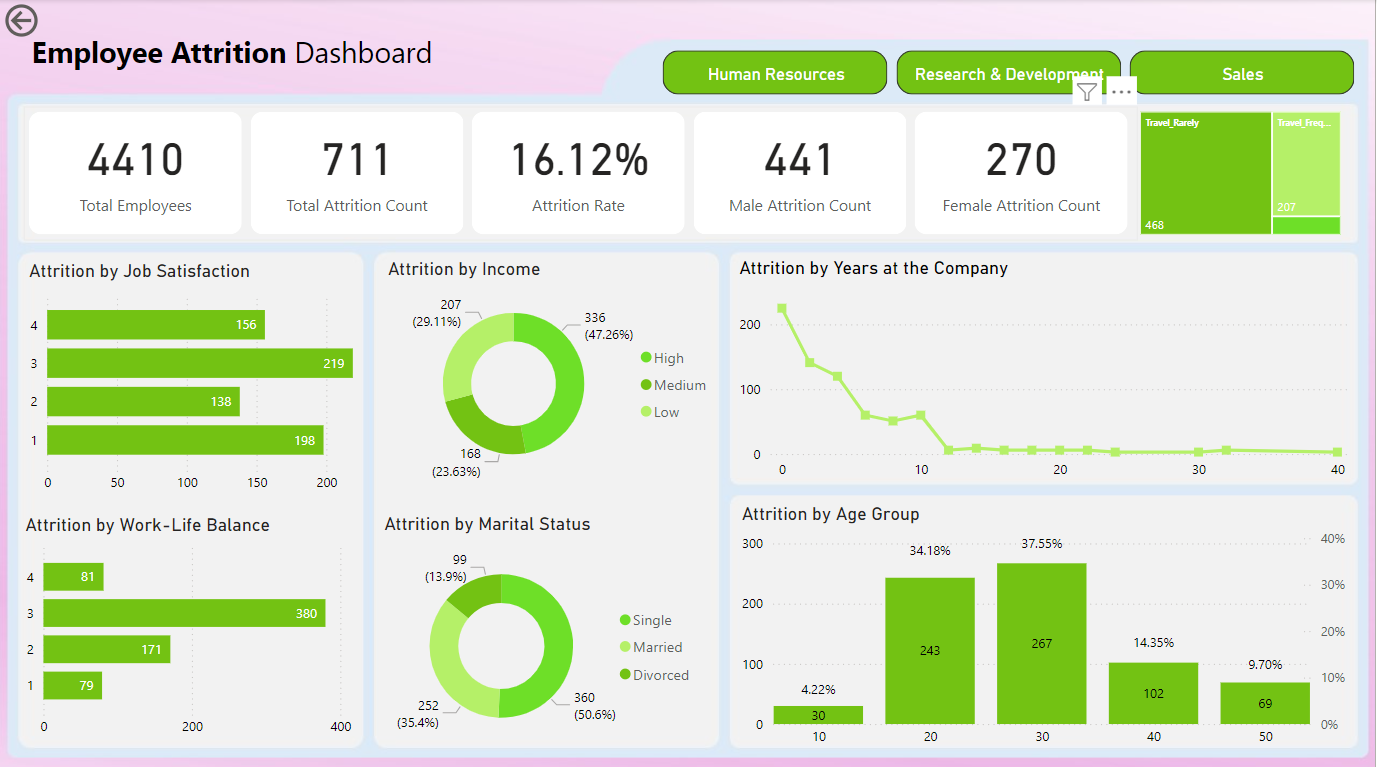

Layout of this report page (visuals, bound fields, positions):
{"tool":"powerbi","page":{"name":"Page 1","canvas":[1280,720],"ordinal":0},"visuals":[{"type":"advancedSlicerVisual","fields":{"Values":["general_data.Department"]},"box":[611.4,42.8,653.5,51.2],"z":0},{"type":"actionButton","box":[0,0,100,40],"z":1000},{"type":"cardVisual","fields":{"Data":["Calculations.Total Employees","Calculations.Total Attrition Count","Calculations.Attrition Rate","Calculations.Male Attrition Count","Calculations.Female Attrition Count"]},"box":[22,100,1036,124.4],"z":2000},{"type":"donutChart","title":"Attrition by Income","fields":{"Y":["Calculations.High Income Attrition","Calculations.Medium Income Attrition","Calculations.Low Income Attrition"]},"box":[355.8,240.7,316.3,215.3],"z":3000},{"type":"donutChart","title":"Attrition by Marital Status","fields":{"Y":["Calculations.Single Attrition","Calculations.Married Attrition","Calculations.Divorced Attrition"]},"box":[352.6,477.9,303.5,229.1],"z":4000},{"type":"lineStackedColumnComboChart","title":"Attrition by Age Group","fields":{"Category":["general_data.Age (bins)"],"Y":["Calculations.Total Attrition Count"],"Y2":["Divide(Calculations.Total Attrition Count, ScopedEval(Calculations.Total Attrition Count, []))"]},"box":[684.9,468.6,571.9,236],"z":5000},{"type":"barChart","title":"Attrition by Job Satisfaction","fields":{"Category":["employee_survey_data.JobSatisfaction"],"Y":["Calculations.Total Attrition Count"]},"box":[22.1,243,349.8,225.6],"z":6000},{"type":"barChart","title":"Attrition by Work-Life Balance","fields":{"Y":["Calculations.Total Attrition Count"],"Category":["employee_survey_data.WorkLifeBalance"]},"box":[18.6,479.1,325.6,216.3],"z":7000},{"type":"lineChart","title":"Attrition by Years at the Company","fields":{"Y":["Calculations.Total Attrition Count"],"Category":["general_data.YearsAtCompany (bins)"]},"box":[682.6,239.5,576.7,216.3],"z":8000},{"type":"treemap","fields":{"Group":["general_data.BusinessTravel"],"Values":["Calculations.Total Attrition Count"]},"box":[1055.8,100,196.5,124.4],"z":9000},{"type":"textbox","title":"jmhm","box":[24.1,25.5,475.7,62.5],"z":10000}]}

Visuals, with their boxes in screenshot pixels (x1, y1, x2, y2), scaled from the page's 1280x720 canvas onto the 1377x767 screenshot:
advancedSlicerVisual - general_data.Department: crop(658, 46, 1361, 100)
actionButton: crop(0, 0, 108, 43)
cardVisual - Calculations.Total Employees x Calculations.Total Attrition Count: crop(24, 107, 1138, 239)
"Attrition by Income" donutChart: crop(383, 256, 723, 486)
"Attrition by Marital Status" donutChart: crop(379, 509, 706, 753)
"Attrition by Age Group" lineStackedColumnComboChart: crop(737, 499, 1352, 751)
"Attrition by Job Satisfaction" barChart: crop(24, 259, 400, 499)
"Attrition by Work-Life Balance" barChart: crop(20, 510, 370, 741)
"Attrition by Years at the Company" lineChart: crop(734, 255, 1355, 486)
treemap - general_data.BusinessTravel x Calculations.Total Attrition Count: crop(1136, 107, 1347, 239)
"jmhm" textbox: crop(26, 27, 538, 94)
